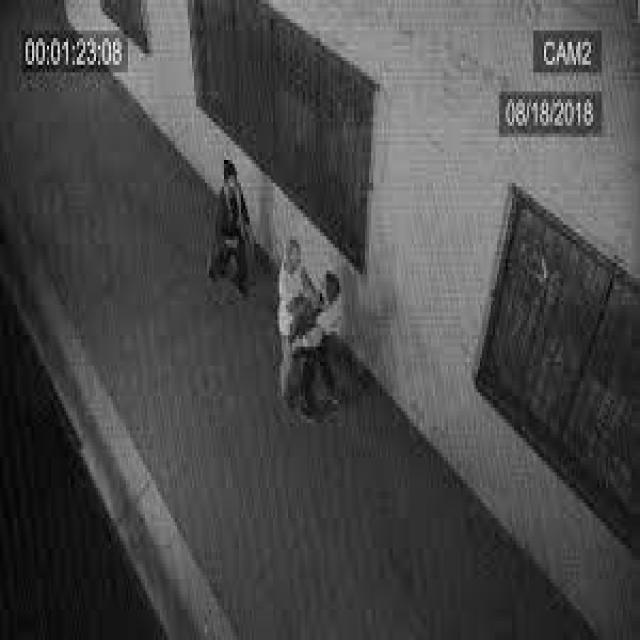fight: (268, 227, 362, 455)
